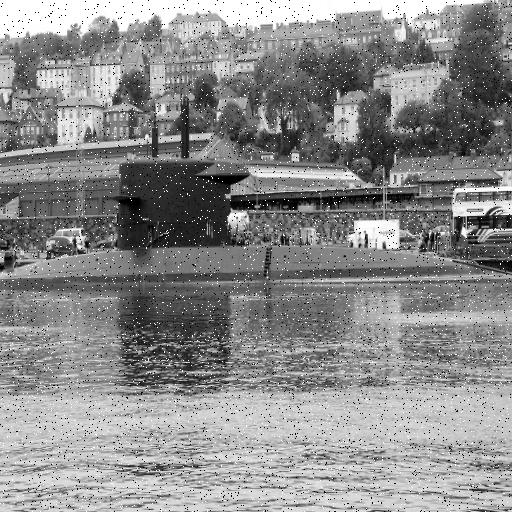submarine: (1, 162, 512, 292)
